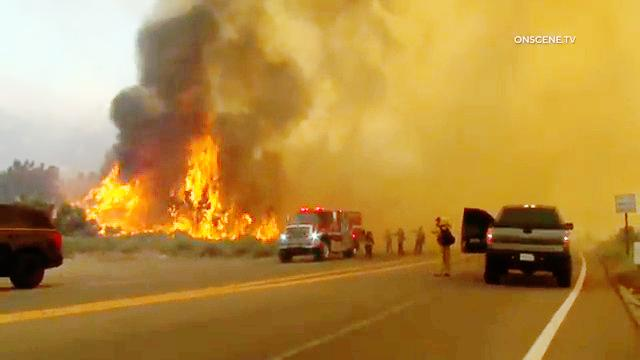fire: (177, 119, 230, 239), (73, 173, 142, 240), (250, 204, 285, 243)
smoke: (128, 4, 314, 133)
